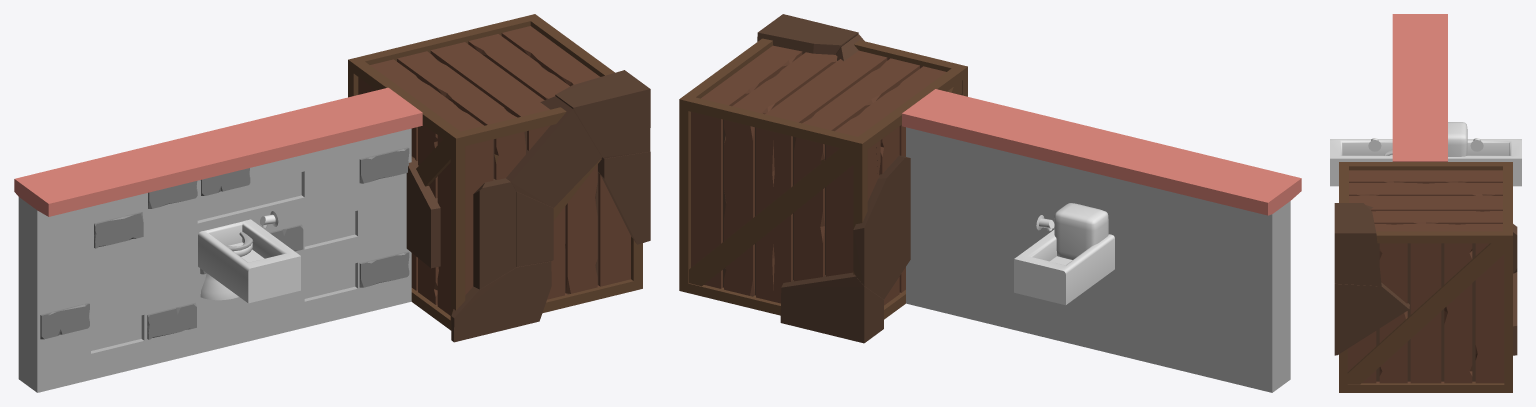
Rendered from props01.fbx.
The picture shows the model from 3 angles, left to right: view 1: azimuth 30°, elevation 25°; view 2: azimuth 150°, elevation 25°; view 3: azimuth 270°, elevation 25°; orthographic projection. The views are drawn at different scales.
Visible parts, largest first — view 1: wall, woodBox.002, toiletsink, woodBox.002_cell.001, woodBox.002_cell.032, woodBox.002_cell.024, woodBox.002_cell.037, woodBox.002_cell.013, woodBox.002_cell.019, woodBox.002_cell.035, woodBox.002_cell.006, woodBox.002_cell.010 (+8 smaller); view 2: wall, woodBox.002, woodBox.002_cell.009, woodBox.002_cell.014, toiletsink, woodBox.002_cell.018, woodBox.002_cell.002, woodBox.002_cell.025, woodBox.002_cell.001, toilet, woodBox.002_cell.027, woodBox.002_cell.004 (+7 smaller); view 3: woodBox.002, wall, woodBox.002_cell.021, woodBox.002_cell.025, woodBox.002_cell.001, woodBox.002_cell.013, toiletsink, woodBox.002_cell.015, woodBox.002_cell.022, woodBox.002_cell.045, woodBox.002_cell.031, woodBox.002_cell.027 (+10 smaller).
Boxes of the visible parts, x1,y1,x2,y2 form: wall: [14, 87, 422, 392]; woodBox.002: [348, 14, 642, 330]; toiletsink: [198, 211, 300, 303]; woodBox.002_cell.001: [555, 70, 650, 158]; woodBox.002_cell.032: [506, 96, 601, 207]; woodBox.002_cell.024: [451, 159, 601, 342]; woodBox.002_cell.037: [473, 178, 516, 289]; woodBox.002_cell.013: [598, 151, 650, 244]; woodBox.002_cell.019: [475, 112, 565, 182]; woodBox.002_cell.035: [406, 156, 440, 268]; woodBox.002_cell.006: [516, 158, 601, 266]; woodBox.002_cell.010: [565, 172, 630, 254]; wall: [902, 89, 1301, 392]; woodBox.002: [679, 38, 967, 319]; woodBox.002_cell.009: [853, 155, 910, 299]; woodBox.002_cell.014: [780, 81, 961, 343]; toiletsink: [1014, 215, 1114, 305]; woodBox.002_cell.018: [773, 210, 853, 282]; woodBox.002_cell.002: [679, 195, 774, 275]; woodBox.002_cell.025: [679, 233, 746, 304]; woodBox.002_cell.001: [757, 14, 858, 54]; toilet: [1054, 203, 1108, 259]; woodBox.002_cell.027: [807, 104, 902, 178]; woodBox.002_cell.004: [799, 119, 880, 221]; woodBox.002: [1339, 162, 1512, 392]; wall: [1392, 14, 1447, 161]; woodBox.002_cell.021: [1339, 305, 1461, 392]; woodBox.002_cell.025: [1449, 323, 1512, 392]; woodBox.002_cell.001: [1334, 203, 1381, 286]; woodBox.002_cell.013: [1334, 282, 1409, 355]; toiletsink: [1330, 138, 1521, 186]; woodBox.002_cell.015: [1454, 278, 1512, 329]; woodBox.002_cell.022: [1374, 222, 1459, 313]; woodBox.002_cell.045: [1355, 308, 1435, 377]; woodBox.002_cell.031: [1452, 194, 1512, 217]; woodBox.002_cell.027: [1441, 162, 1483, 200].
Bounding box in the file's own units: 605 × 210 × 221.
